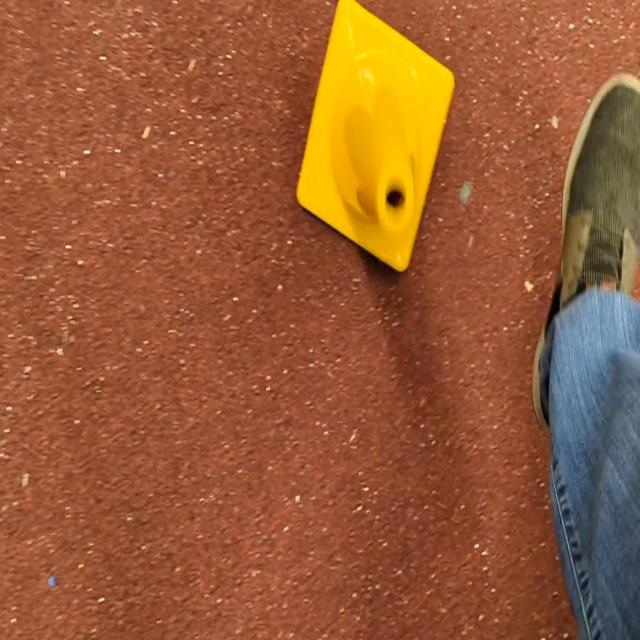frc_cone: (291, 5, 457, 290)
